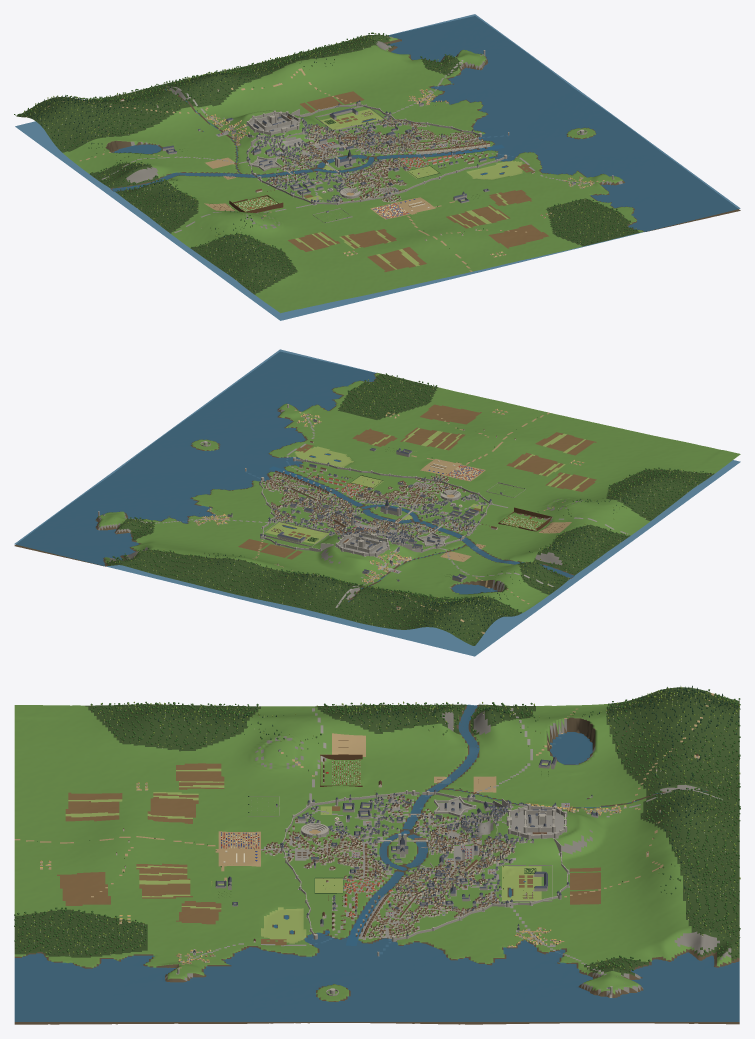
The model's file is stonehallow_preview.glb.
3 renders of one model, top to bottom at view 1: azimuth 30°, elevation 25°; view 2: azimuth 150°, elevation 25°; view 3: azimuth 270°, elevation 25°, orthographic. The views are drawn at different scales.
Visible parts, largest first — view 1: Terrain, The sea, Trees - The Royal Forest, Trees - Southwood, River Wend, Trees - Thornwood, Trees - Elderwood, WALL-01 City wall; view 2: Terrain, The sea, Trees - The Royal Forest, Trees - Southwood, Trees - Thornwood, Trees - Elderwood, River Wend, WALL-01 City wall; view 3: Terrain, The sea, Trees - The Royal Forest, River Wend, Trees - Southwood, Trees - Thornwood, Trees - Elderwood, Mirror Mere, WALL-01 City wall, Merchant Quarter - houses in square J7, Old Town - houses in square H6, South Ward - houses in square G10 (+3 smaller).
Boxes of the visible parts, x1,y1,x2,y2 form: Terrain: (15,16,740,313); The sea: (15,14,740,320); Trees - The Royal Forest: (14,32,433,150); Trees - Southwood: (191,233,297,292); River Wend: (112,144,504,191); Trees - Thornwood: (547,199,637,245); Trees - Elderwood: (90,161,197,230); WALL-01 City wall: (247,134,504,204); Terrain: (14,352,740,645); The sea: (14,349,740,656); Trees - The Royal Forest: (107,528,521,645); Trees - Southwood: (607,467,712,519); Trees - Thornwood: (340,373,437,417); Trees - Elderwood: (519,524,627,593); River Wend: (269,466,574,577); WALL-01 City wall: (296,459,489,552); Terrain: (14,687,739,1024); The sea: (14,911,739,1021); Trees - The Royal Forest: (606,685,740,959); River Wend: (346,704,479,945); Trees - Southwood: (90,701,259,749); Trees - Thornwood: (14,907,146,956); Trees - Elderwood: (316,701,535,733); Mirror Mere: (550,732,592,764); WALL-01 City wall: (282,791,511,935); Merchant Quarter - houses in square J7: (419,882,468,906); Old Town - houses in square H6: (468,837,513,864); South Ward - houses in square G10: (287,823,331,847).
Bounding box in the file's own units: 4103 × 265 × 4106.
